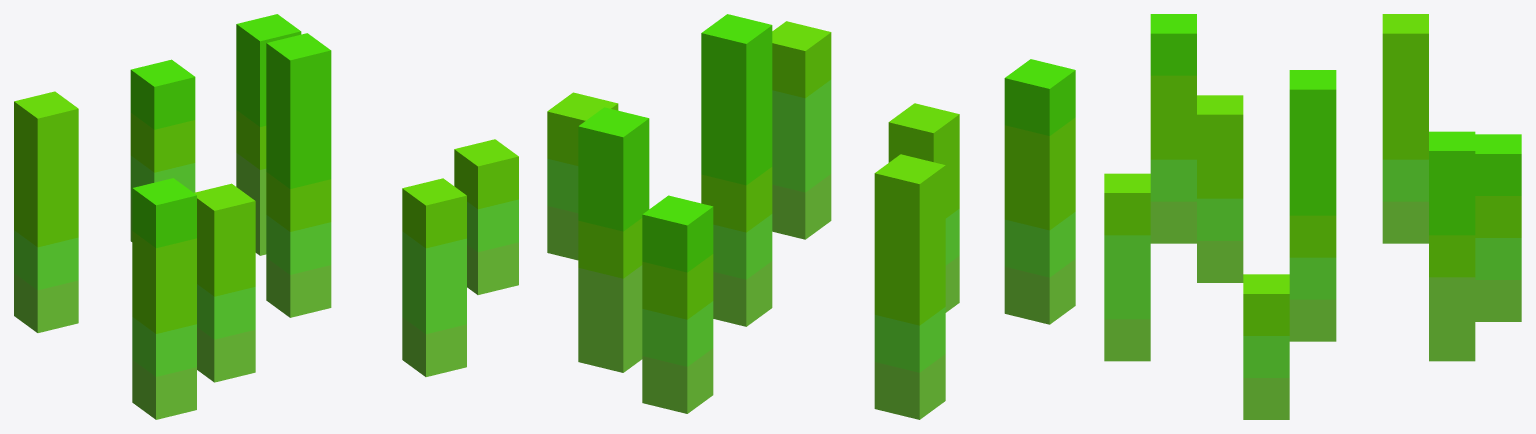
File: GrassTall.obj
3 renders of one model, left to right at view 1: azimuth 30°, elevation 25°; view 2: azimuth 150°, elevation 25°; view 3: azimuth 270°, elevation 25°, orthographic. The views are drawn at different scales.
Bounding box in the file's own units: 1 × 0.6 × 0.9.
1 material, 1 textured.
